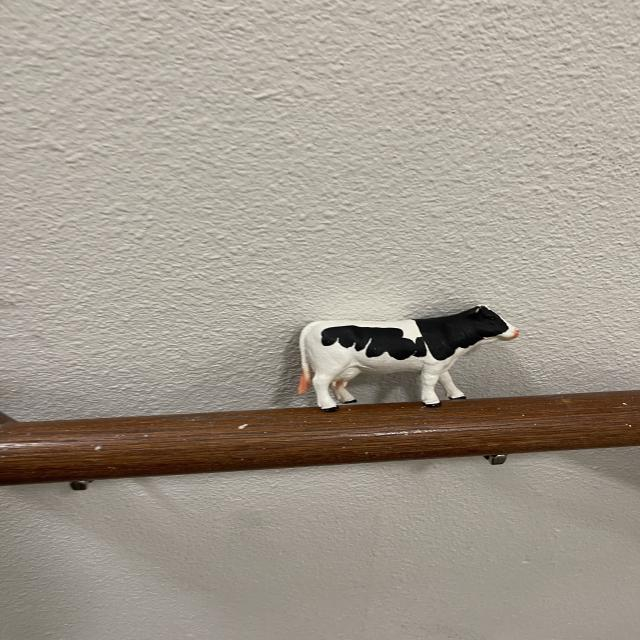cow: (295, 303, 523, 413)
